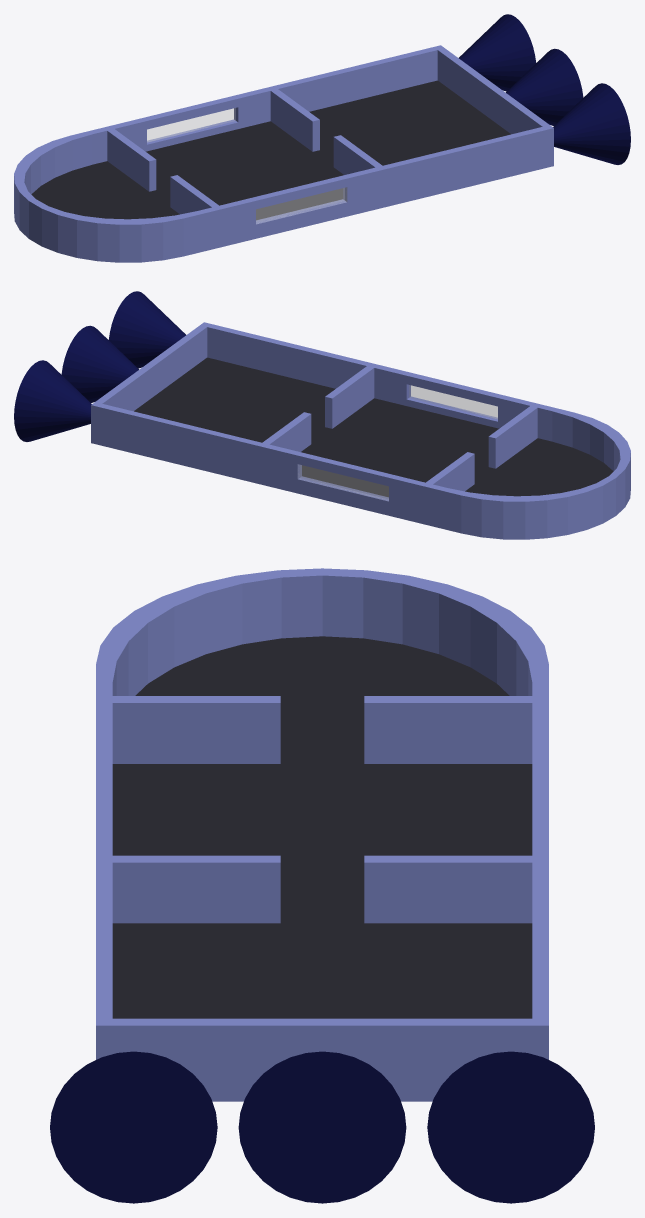
The picture shows the model from 3 angles, top to bottom: view 1: azimuth 30°, elevation 25°; view 2: azimuth 150°, elevation 25°; view 3: azimuth 270°, elevation 25°; orthographic projection. The views are drawn at different scales.
Visible parts, largest first — view 1: Cylinder, Cube, Cone.002, Cone.001, Cone, Cube.024, Cube.023; view 2: Cylinder, Cube, Cone.001, Cone.002, Cone, Cube.023, Cube.024; view 3: Cylinder, Cube, Cone, Cone.001, Cone.002.
Boxes of the visible parts, box(x1,y1,x2,y2) form: Cylinder: box(14, 45, 553, 262); Cube: box(31, 80, 510, 220); Cone.002: box(553, 83, 630, 164); Cone.001: box(459, 14, 536, 91); Cone: box(506, 48, 583, 125); Cube.024: box(256, 187, 346, 223); Cube.023: box(147, 108, 235, 142); Cylinder: box(91, 322, 630, 539); Cube: box(134, 357, 613, 497); Cone.001: box(14, 360, 91, 441); Cone.002: box(108, 291, 185, 368); Cone: box(61, 325, 138, 402); Cube.023: box(298, 464, 388, 500); Cube.024: box(409, 385, 497, 419); Cylinder: box(96, 568, 548, 1101); Cube: box(112, 636, 532, 1018); Cone: box(238, 1051, 406, 1203); Cone.001: box(427, 1051, 594, 1203); Cone.002: box(50, 1051, 217, 1203).
Size of the model in its own units: 147 by 20 by 65.
